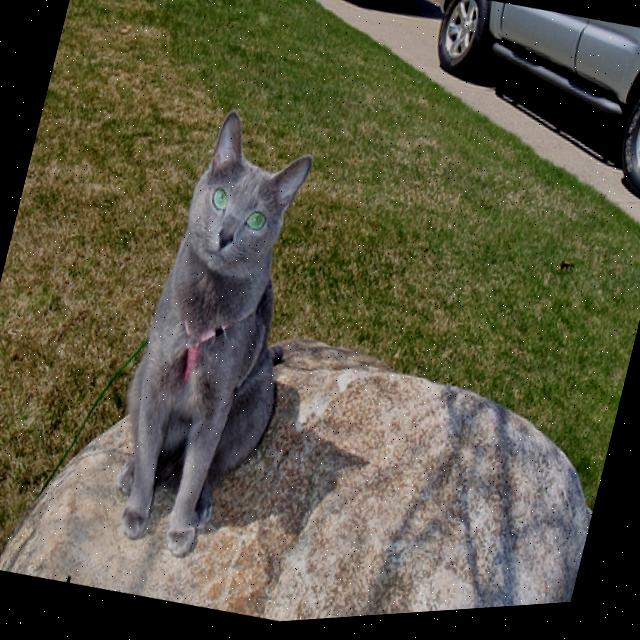Russian Blue: (86, 94, 347, 584)
